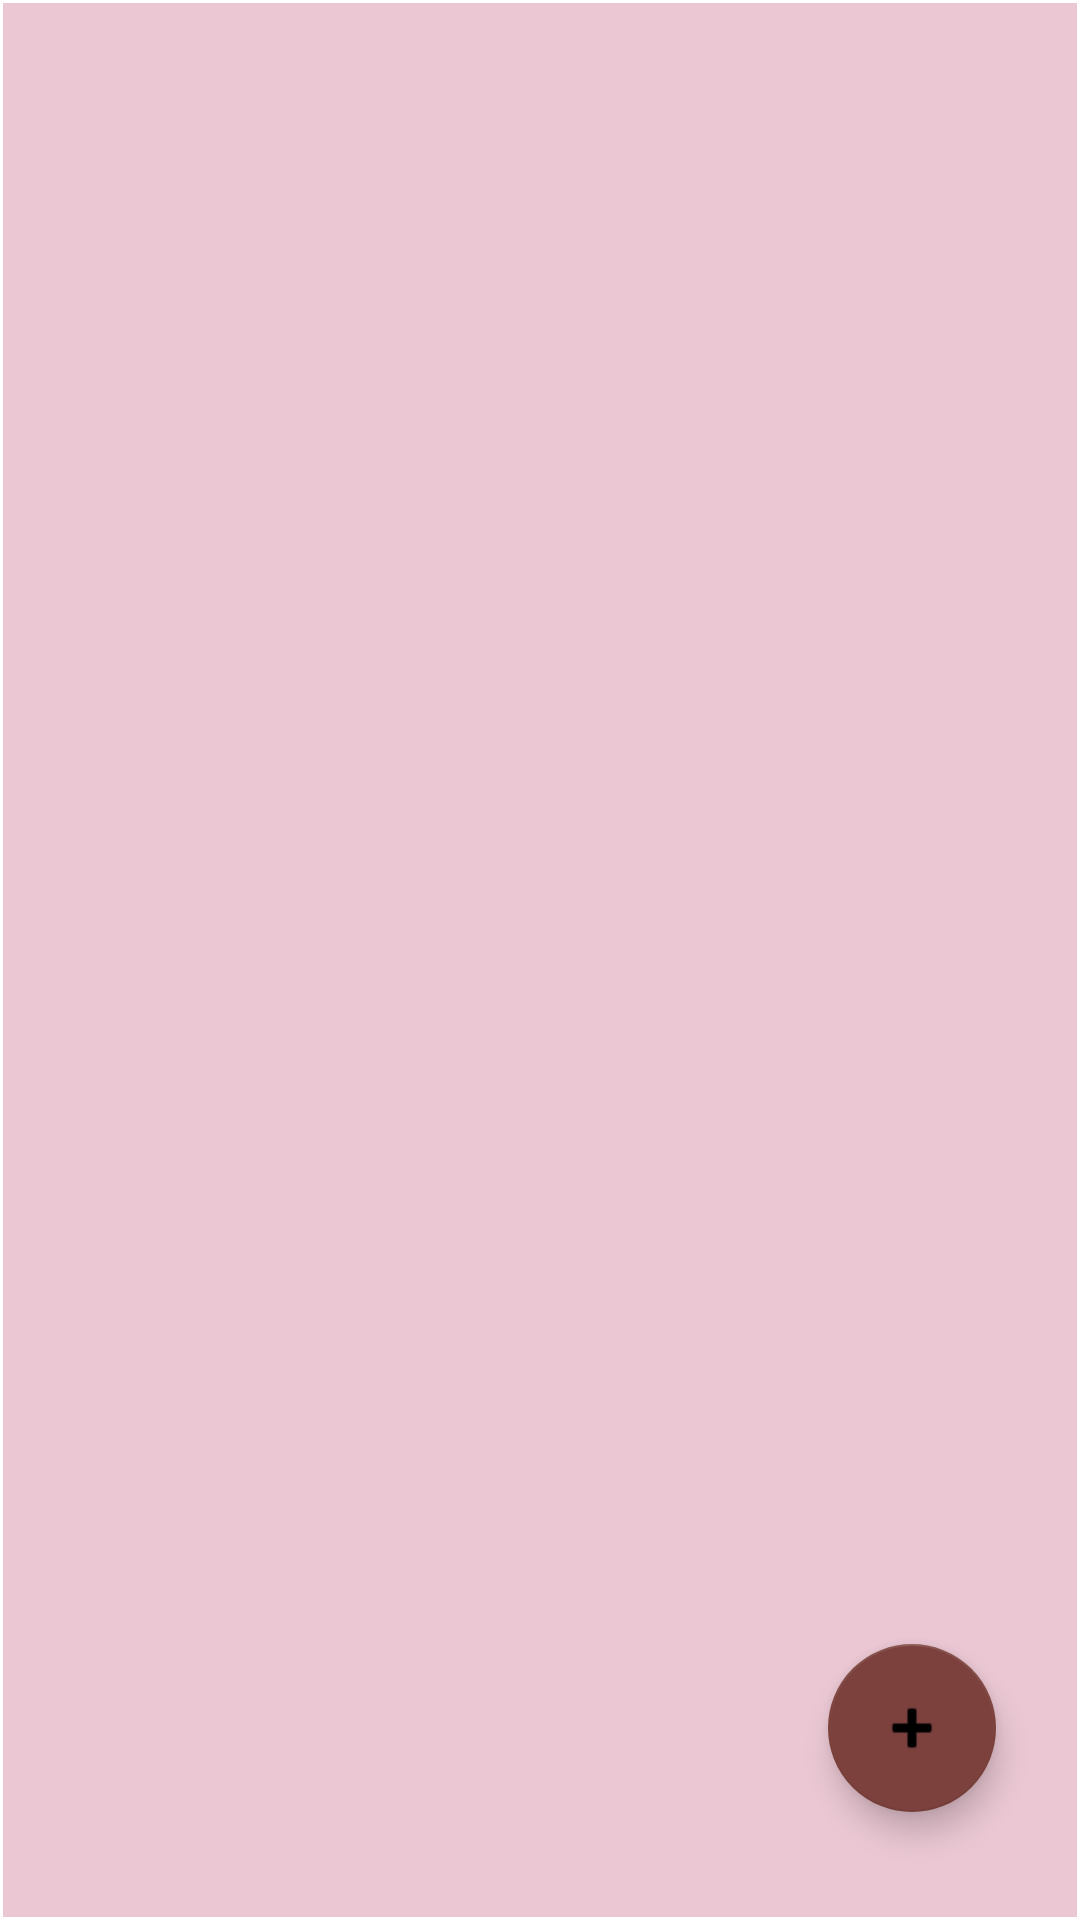

Screen size 1080x1920. Icon name, then its center in pixels as point (x, y):
add: point (912, 1728)
